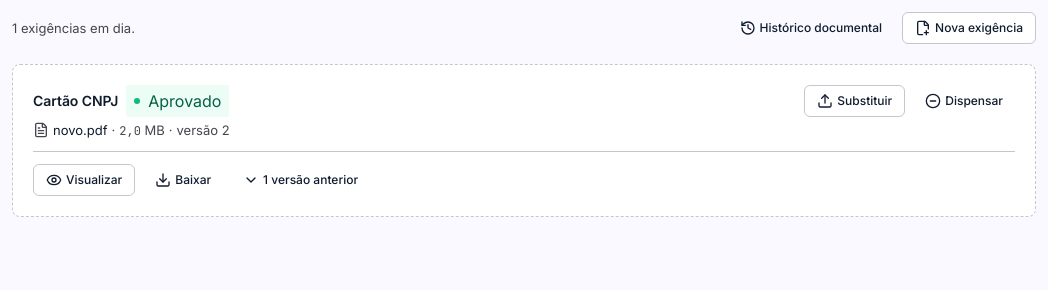
Test: versões preservadas (§2.3 e §3.2) › lista as anteriores sob demanda, sem nenhuma ação de exclusão
Click the button "1 versão anterior" at {"x": 301, "y": 180}, box [231,164,370,196]
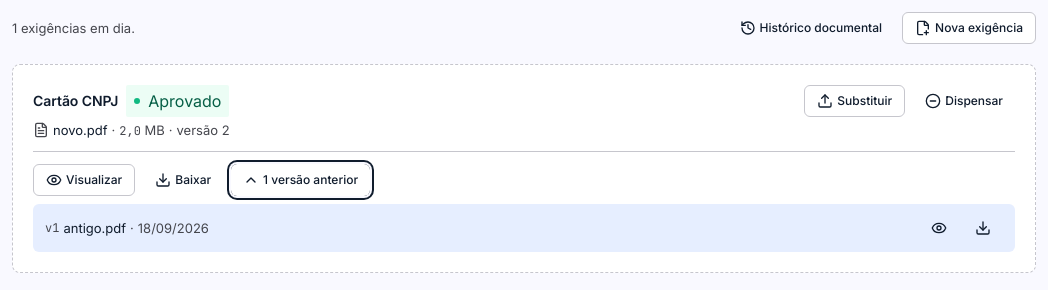
Expected: the text "antigo.pdf" is shown, [63,219,126,237]
